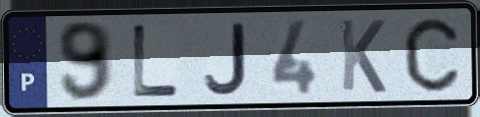4: (268, 17, 320, 98)
9: (56, 18, 118, 105)
C: (401, 15, 462, 95)
J: (201, 20, 250, 97)
K: (337, 16, 389, 96)
L: (131, 22, 183, 100)
